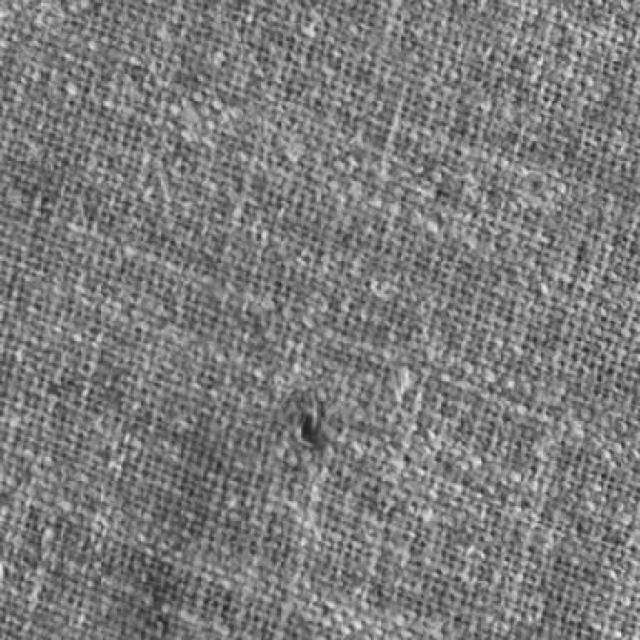seam: (294, 398, 332, 456)
